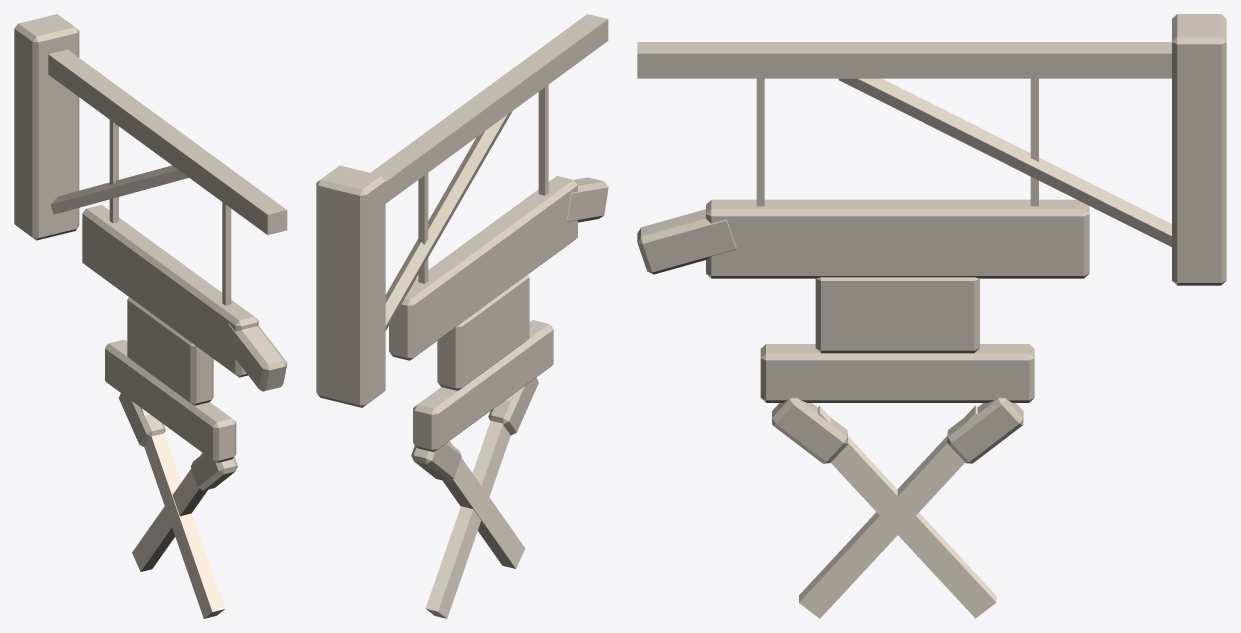
File: SM_VK_Prop_SmithSign.fbx
3 renders of one model, left to right at view 1: azimuth 30°, elevation 25°; view 2: azimuth 150°, elevation 25°; view 3: azimuth 270°, elevation 25°, orthographic. The views are drawn at different scales.
Visible parts, largest first — view 1: SM_VK_Prop_SmithSign.001; view 2: SM_VK_Prop_SmithSign.001; view 3: SM_VK_Prop_SmithSign.001.
Boxes of the visible parts, x1,y1,x2,y2 form: SM_VK_Prop_SmithSign.001: (14, 14, 287, 618); SM_VK_Prop_SmithSign.001: (316, 14, 608, 618); SM_VK_Prop_SmithSign.001: (637, 14, 1226, 618).
Size of the model in its own units: 0.12 by 1.18 by 1.08.
